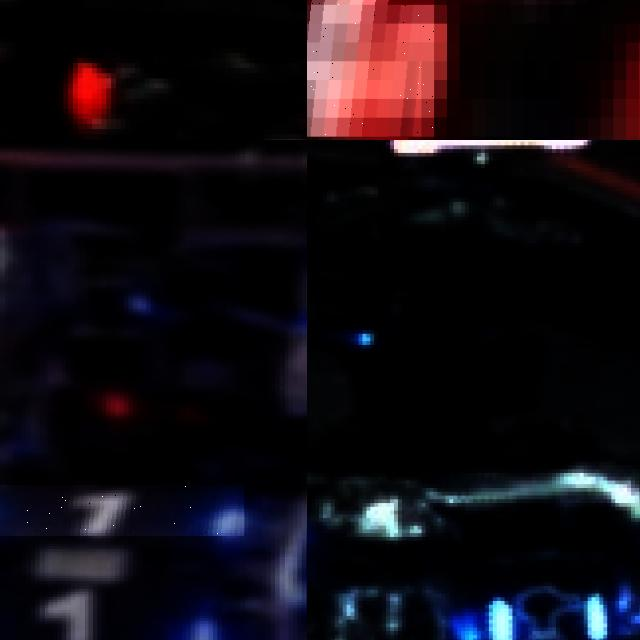B1: (0, 485, 244, 535), (0, 583, 213, 640)
Bs: (488, 582, 603, 640)
R4: (307, 0, 434, 136)
